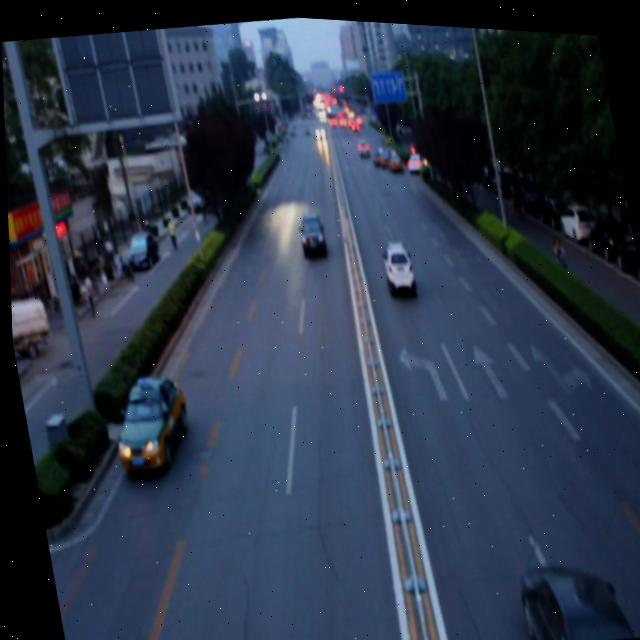car: (507, 540, 627, 640), (105, 368, 193, 473), (375, 231, 416, 292), (292, 204, 329, 259)
